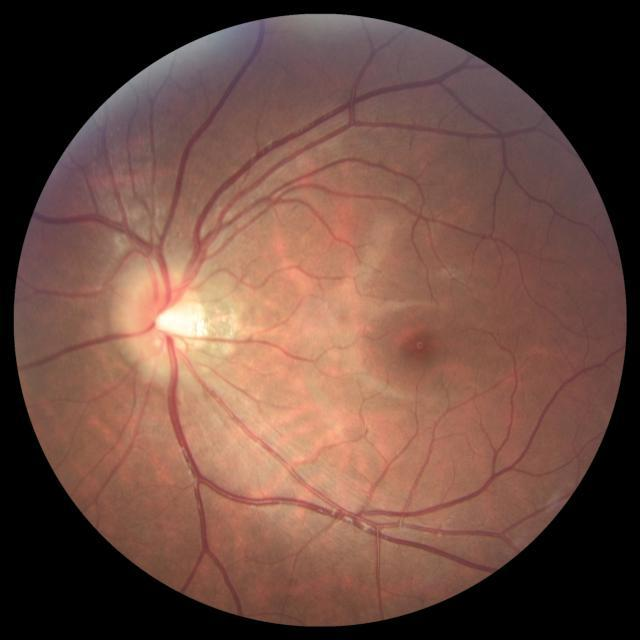OC: (150, 297, 190, 343)
OD: (123, 266, 206, 372)
